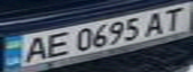0: (72, 25, 96, 52)
5: (121, 15, 148, 43)
6: (90, 21, 112, 50)
9: (106, 19, 130, 46)
A: (18, 34, 51, 64), (139, 10, 172, 37)
E: (39, 29, 72, 60)
T: (157, 4, 193, 33)
